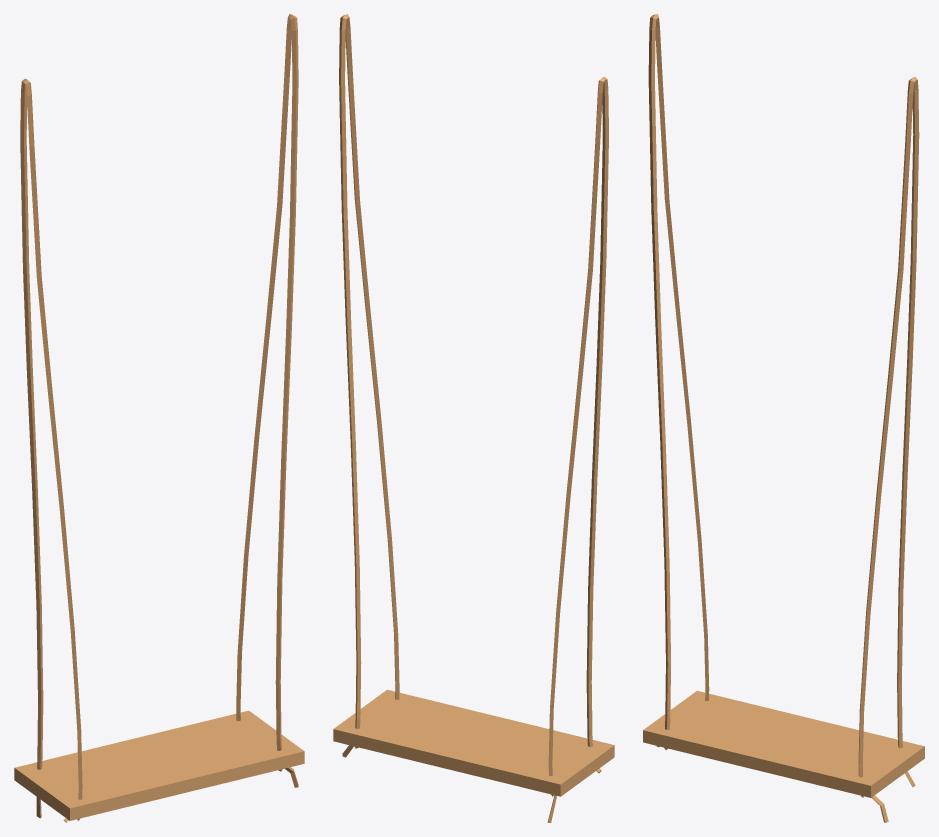
The model's file is swing.fbx.
The picture shows the model from 3 angles, left to right: view 1: azimuth 30°, elevation 25°; view 2: azimuth 150°, elevation 25°; view 3: azimuth 330°, elevation 25°; orthographic projection. The views are drawn at different scales.
Visible parts, largest first — view 1: Object_4; view 2: Object_4; view 3: Object_4.
Part boxes in pixels (x1,y1,x2,y2): Object_4: (14, 14, 304, 822); Object_4: (333, 14, 614, 822); Object_4: (643, 14, 924, 822).
Size of the model in its own units: 1.95 by 5.24 by 0.6925.
